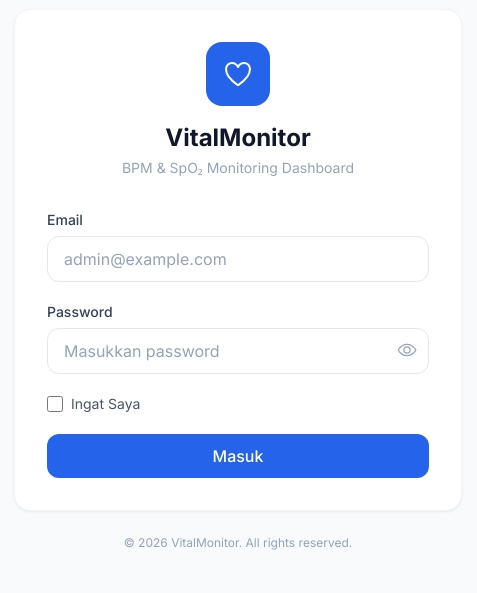
Test: Login Page › shows validation error for empty email on submit
Click the button "Masuk" at (238, 456), box [47,434,429,478]
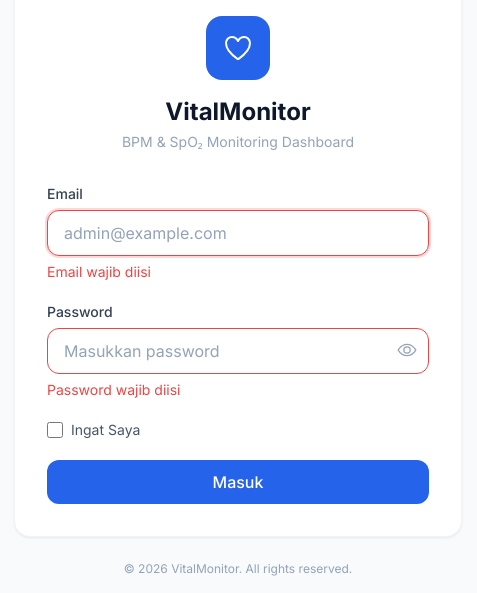
Now the text "Email wajib diisi" is shown, box [47,263,151,280]
